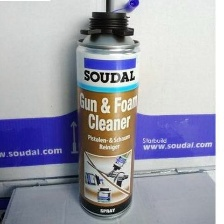aerosol_cans: (71, 1, 143, 224)
